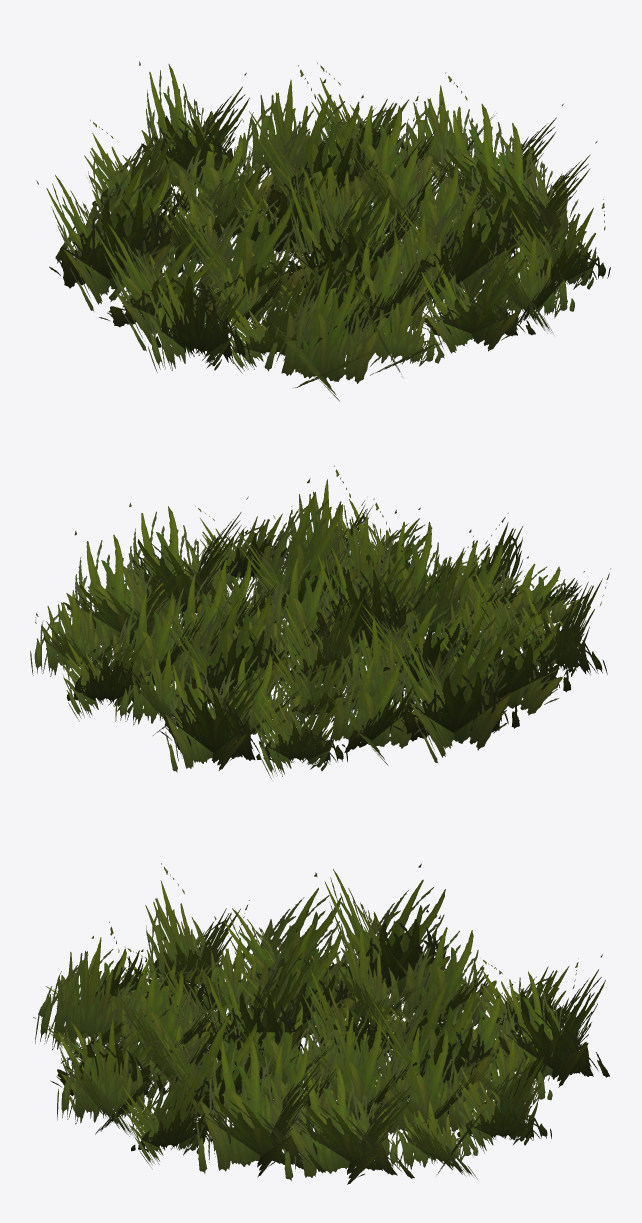
File: oVgtAIO1K.FBX
The picture shows the model from 3 angles, top to bottom: view 1: azimuth 30°, elevation 25°; view 2: azimuth 150°, elevation 25°; view 3: azimuth 270°, elevation 25°; orthographic projection. The views are drawn at different scales.
Visible parts, largest first — view 1: oVgtAIO1K; view 2: oVgtAIO1K; view 3: oVgtAIO1K.
Part boxes in pixels (x1,y1,x2,y2): oVgtAIO1K: (36, 61, 610, 401); oVgtAIO1K: (30, 465, 610, 780); oVgtAIO1K: (33, 863, 609, 1184).
Size of the model in its own units: 24.4 by 24.83 by 7.29.
1 material, 1 textured.
